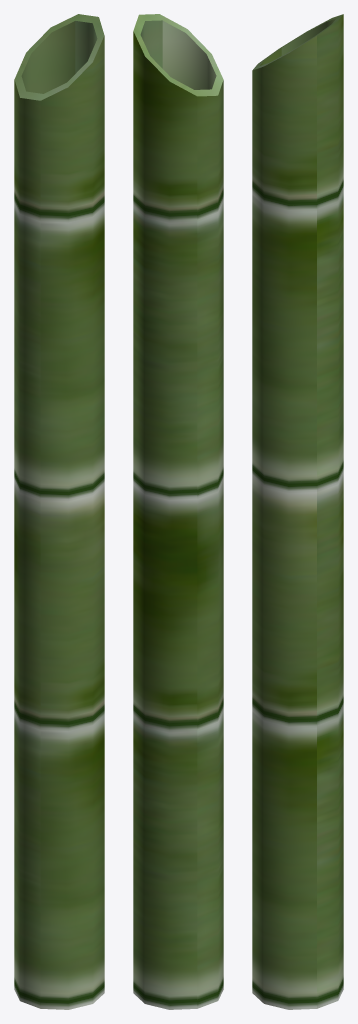
File: bamboospike.fbx
3 renders of one model, left to right at view 1: azimuth 30°, elevation 25°; view 2: azimuth 150°, elevation 25°; view 3: azimuth 330°, elevation 25°, orthographic.
Visible parts, largest first — view 1: bamboo; view 2: bamboo; view 3: bamboo.
Boxes of the visible parts, x1,y1,x2,y2 form: bamboo: (14, 14, 104, 1009); bamboo: (133, 14, 223, 1009); bamboo: (252, 14, 343, 1009).
Size of the model in its own units: 3.17 by 36.95 by 2.94.
1 material, 1 textured.
